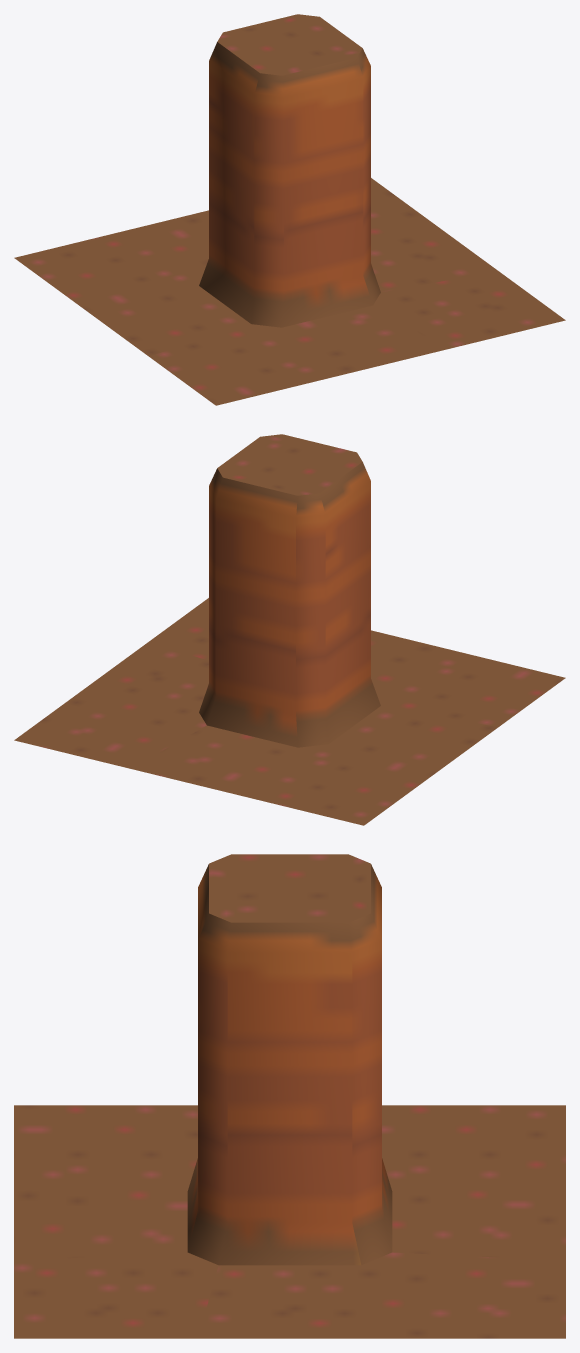
The model's file is canion_step_column_v02.fbx.
The picture shows the model from 3 angles, top to bottom: view 1: azimuth 30°, elevation 25°; view 2: azimuth 150°, elevation 25°; view 3: azimuth 270°, elevation 25°; orthographic projection. The views are drawn at different scales.
Parts seen in each view (by area): view 1: canion_step_column_v02; view 2: canion_step_column_v02; view 3: canion_step_column_v02.
Part boxes in pixels (x1,y1,x2,y2): canion_step_column_v02: (14, 14, 565, 405); canion_step_column_v02: (14, 434, 565, 825); canion_step_column_v02: (14, 854, 565, 1338).
Size of the model in its own units: 600 by 400 by 600.
